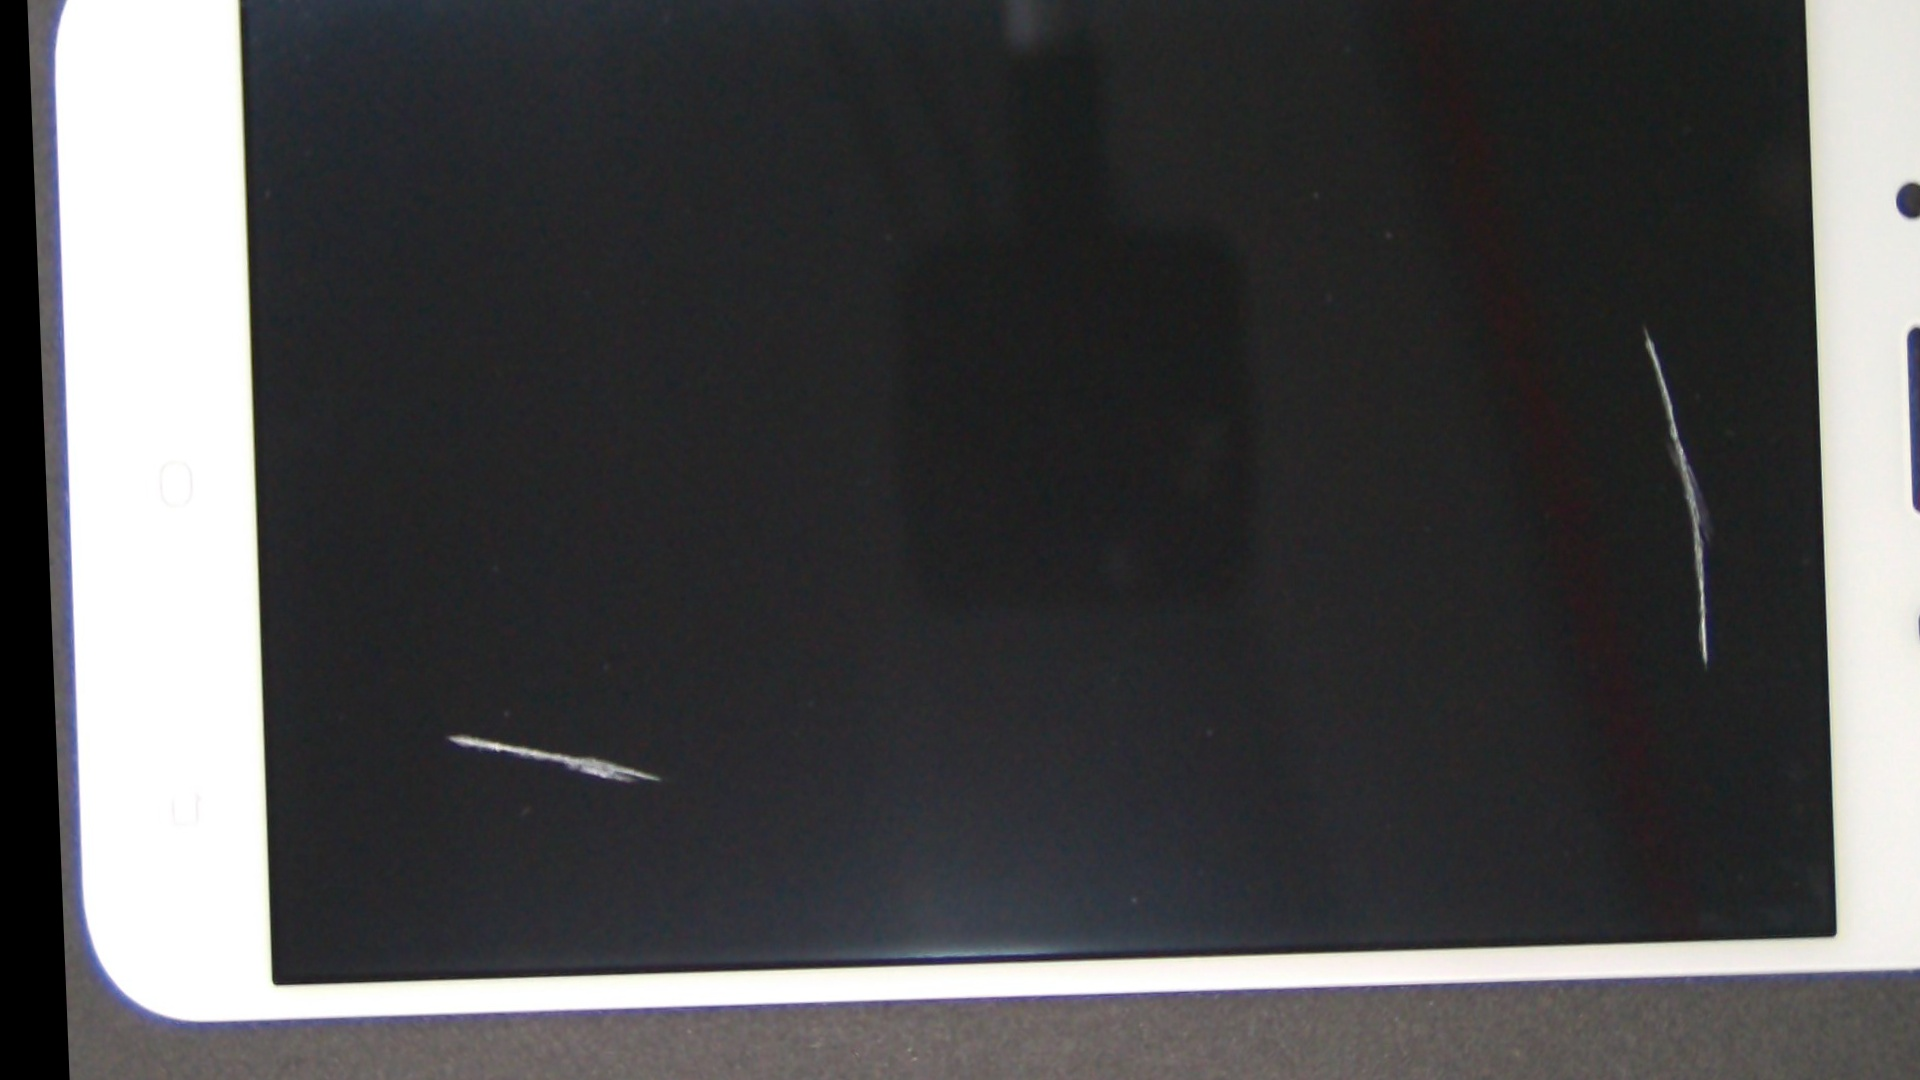oil: (832, 61, 1920, 605), (239, 295, 667, 1080)
